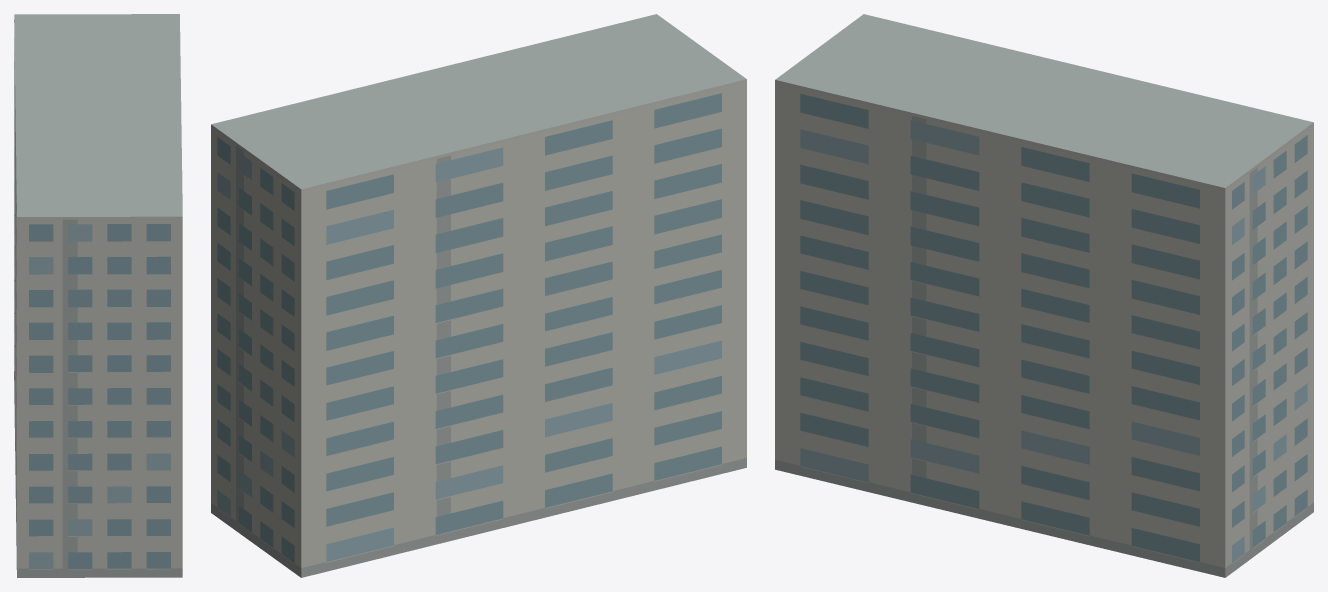
File: residential-75c14d8c-278a-4ed0-a9b2-b6f4a8a74884.glb
3 views of the same model, side by side, from view 1: azimuth 30°, elevation 25°; view 2: azimuth 150°, elevation 25°; view 3: azimuth 270°, elevation 25° (orthographic). The views are drawn at different scales.
Visible parts, largest first — view 1: residential-75c14d8c-278a-4ed0-a9b2-b6f4a8a74884.tmp; view 2: residential-75c14d8c-278a-4ed0-a9b2-b6f4a8a74884.tmp; view 3: residential-75c14d8c-278a-4ed0-a9b2-b6f4a8a74884.tmp.
Part boxes in pixels (box(x1,y1,x2,y2)): residential-75c14d8c-278a-4ed0-a9b2-b6f4a8a74884.tmp: box(14, 14, 182, 577); residential-75c14d8c-278a-4ed0-a9b2-b6f4a8a74884.tmp: box(211, 14, 746, 577); residential-75c14d8c-278a-4ed0-a9b2-b6f4a8a74884.tmp: box(775, 14, 1313, 577).
Size of the model in its own units: 29.7 by 31 by 38.84.
